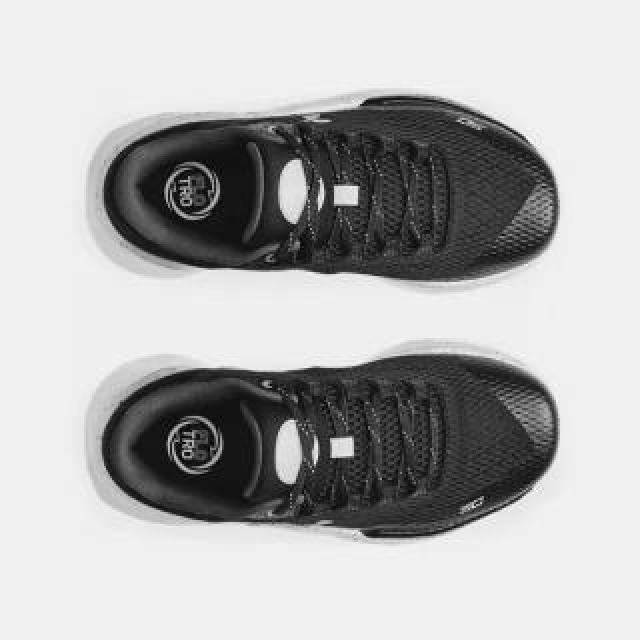shoes: (83, 86, 559, 292), (87, 339, 561, 543)
